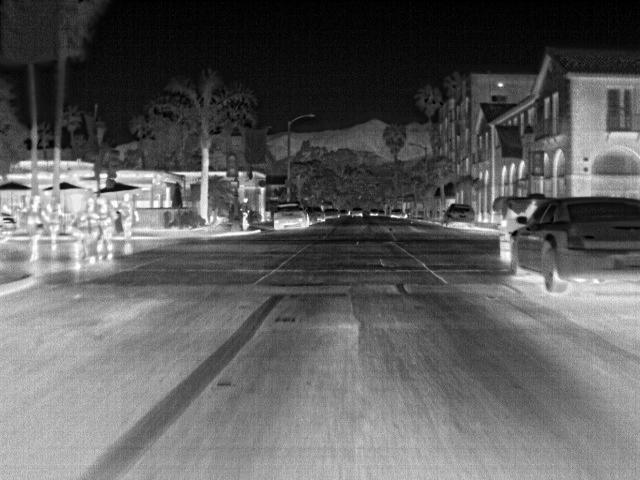car: (510, 196, 640, 292), (269, 202, 308, 232), (442, 204, 477, 230), (305, 206, 325, 224), (388, 208, 407, 221), (322, 208, 340, 221), (349, 207, 364, 220)
person: (23, 194, 49, 262), (95, 197, 118, 259), (119, 196, 139, 254), (237, 195, 253, 230)
